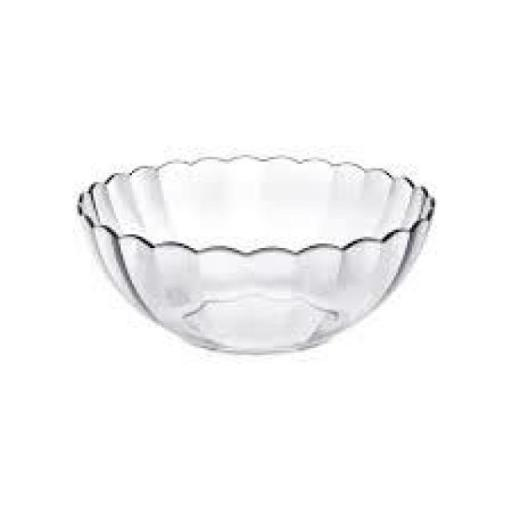glass: (58, 134, 448, 381)
